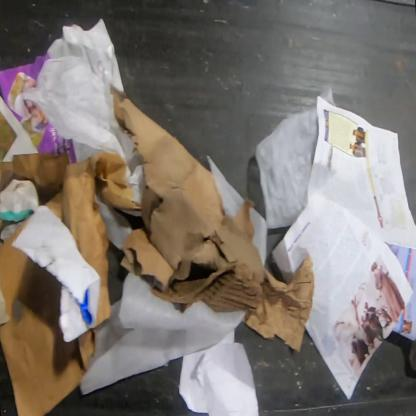cardboard: (113, 87, 265, 318), (0, 212, 97, 415), (45, 149, 142, 328), (243, 258, 315, 354), (0, 152, 68, 207)
